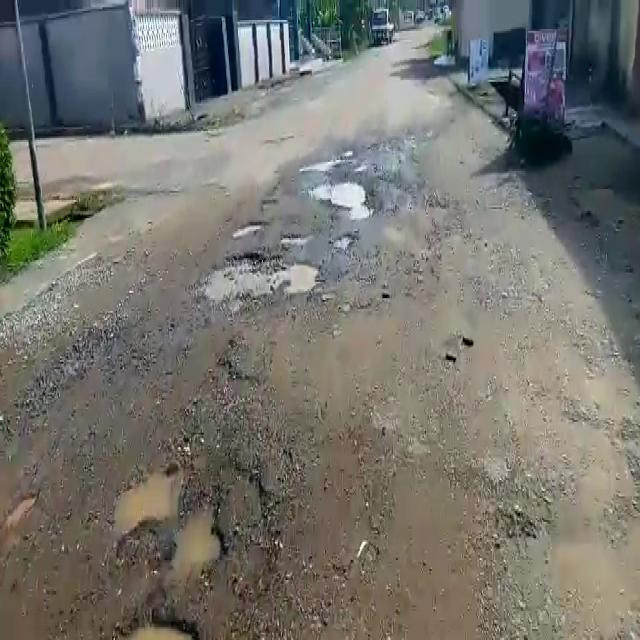Pothole: (116, 459, 226, 581), (190, 248, 320, 305), (305, 175, 371, 209), (301, 154, 348, 174), (231, 221, 268, 239), (280, 230, 315, 246)
